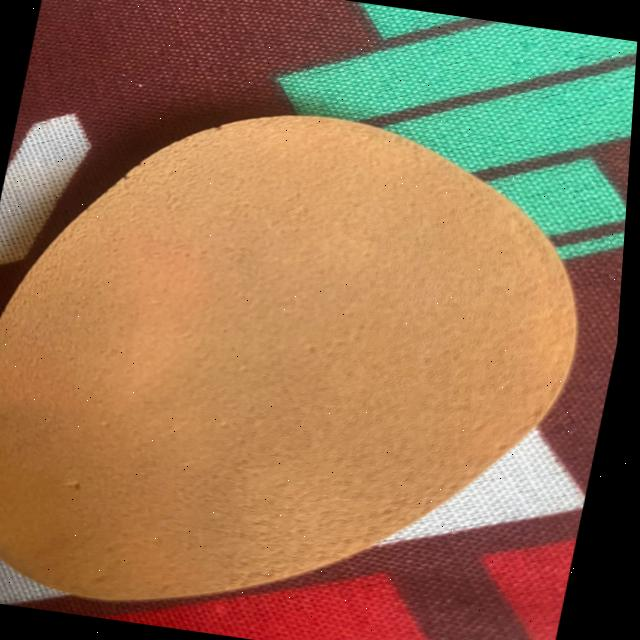beauty blender: (0, 50, 637, 640)
